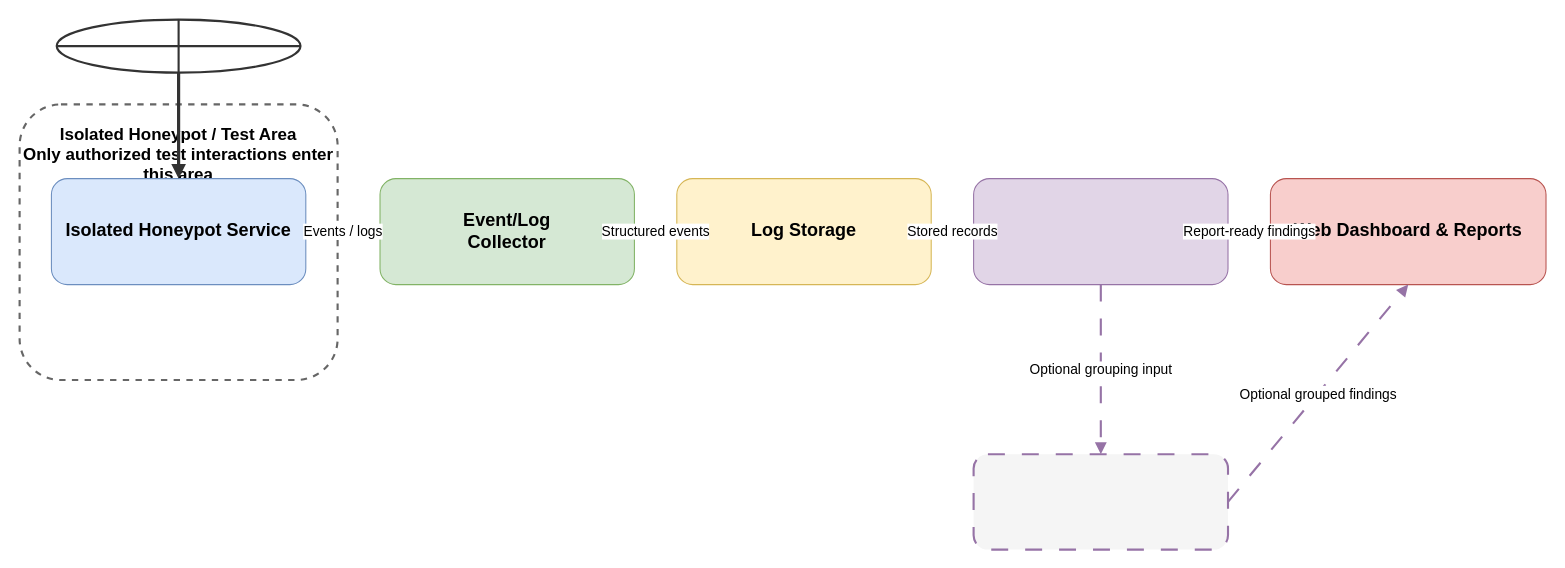
Image size: 1565x568. Some labels were removed from this diagram. The shapes that lost their labels are listed below. From the top down, each one's centre as x and y in pixels, then its label:
(x=178, y=45): Authorized test interactions
(x=1100, y=231): Analysis/Processing
(x=1100, y=501): OPTIONAL: AI Grouping (not required)
